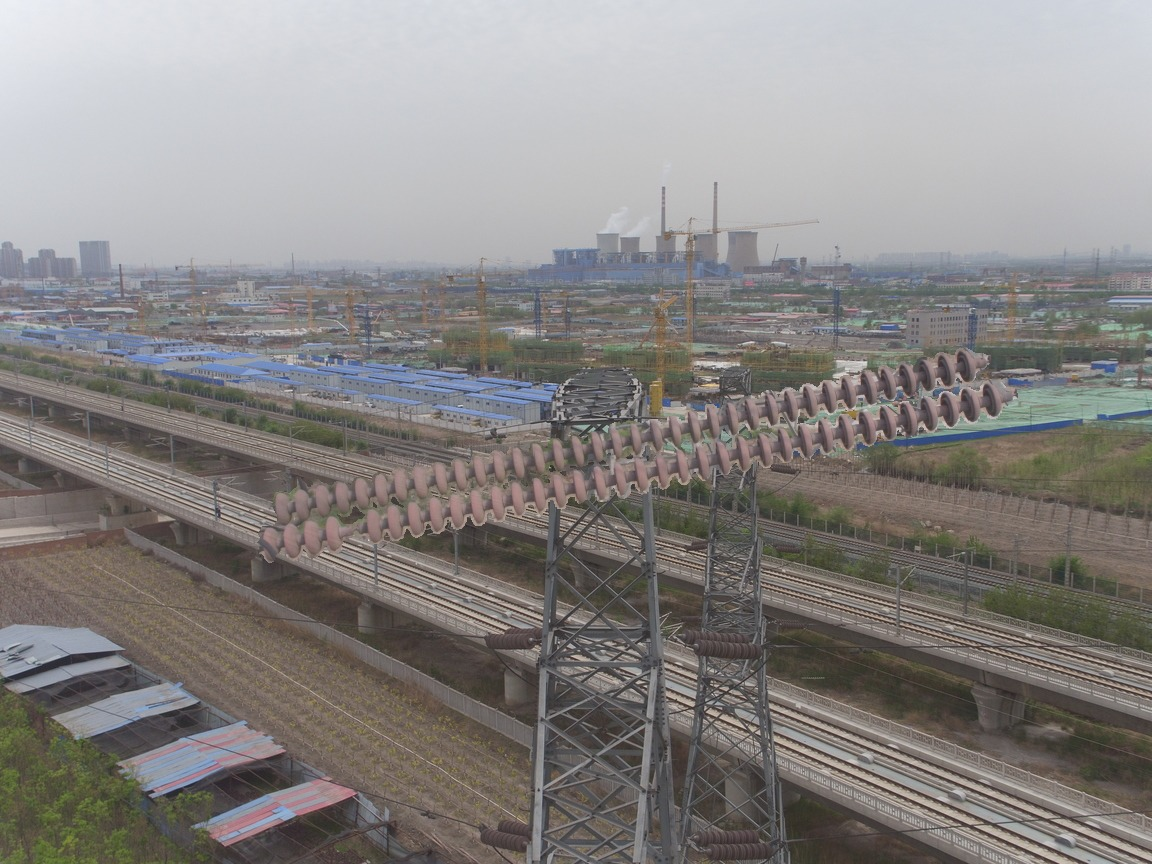defect: (319, 504, 386, 552)
